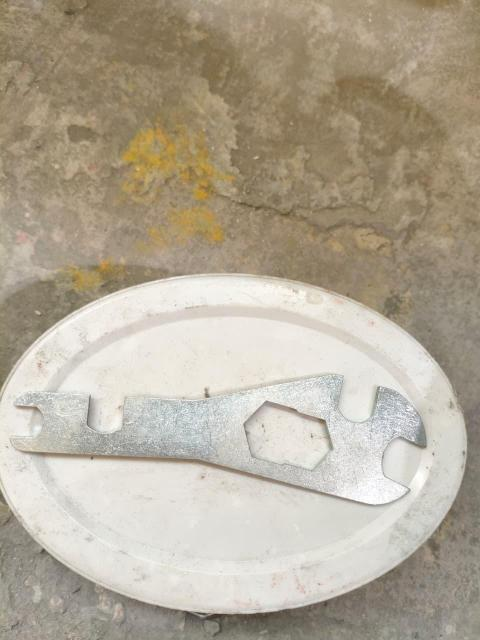Metal: (10, 372, 428, 508)
